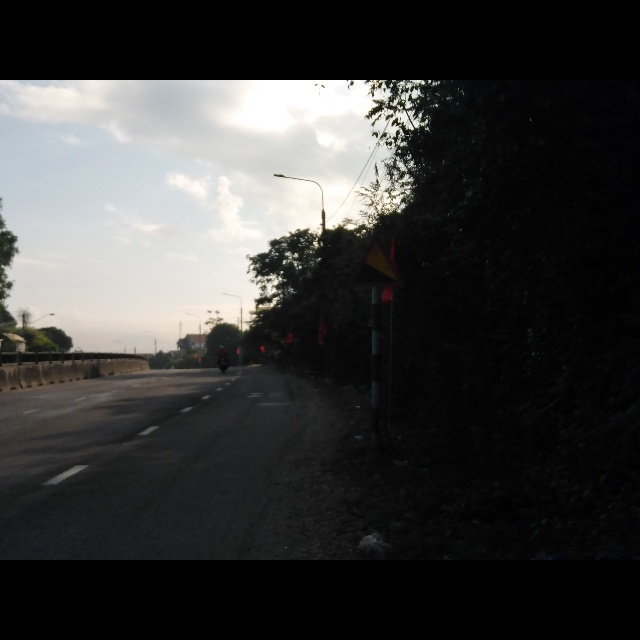Dốc lên nguy hiểm: (345, 236, 403, 292)
